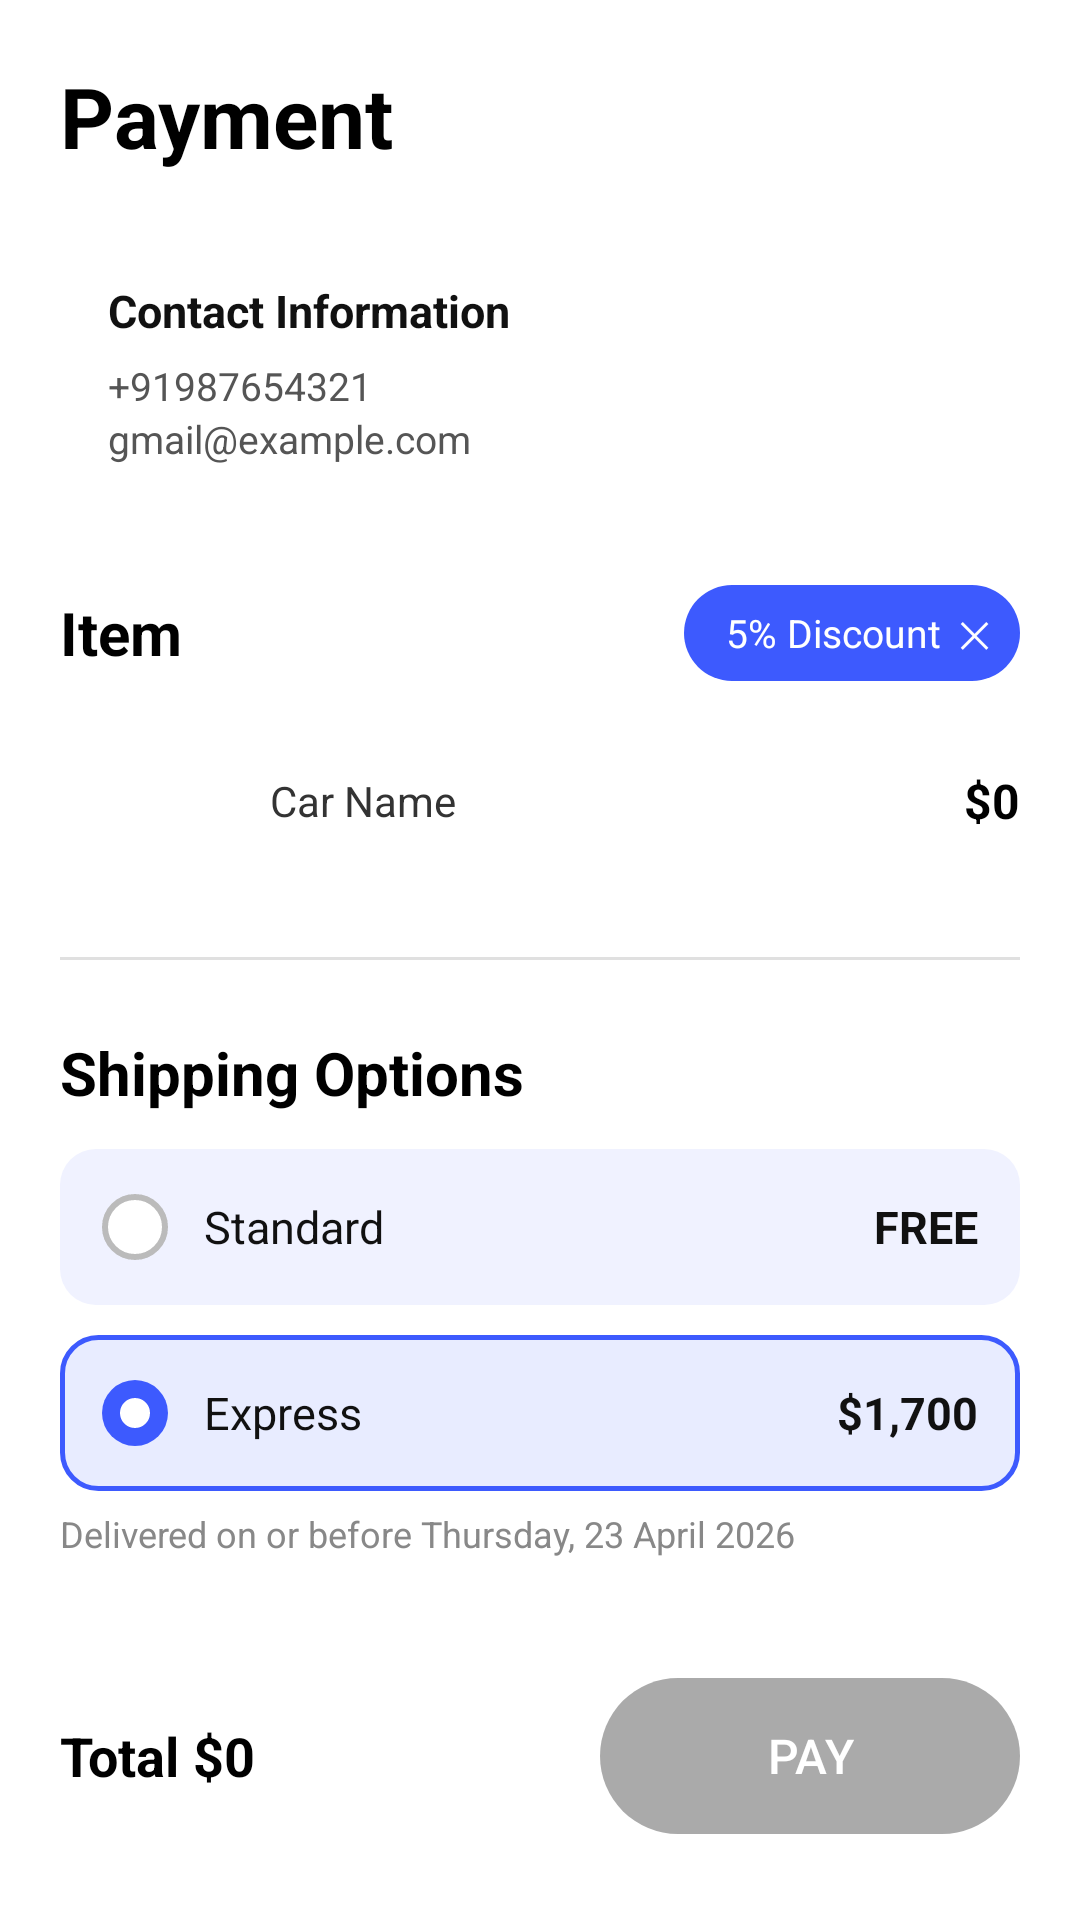

Named icons in this screenshot (1080 x 1920) and their bounding boxes, (x1, y1, x2, y2):
radio: (102, 1194, 168, 1260), (102, 1380, 168, 1446)
